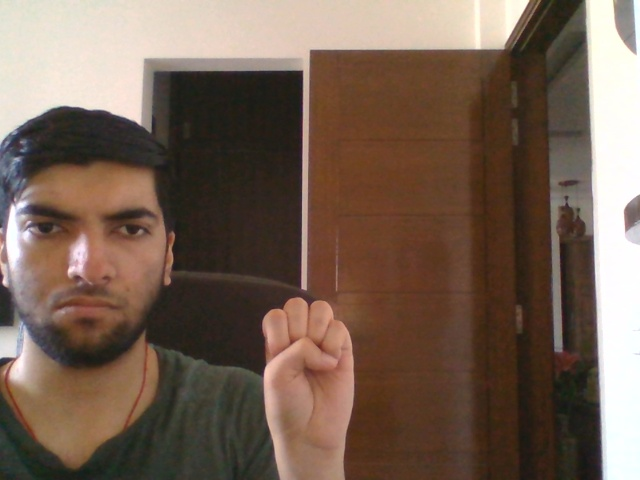LetterS: (259, 294, 358, 454)
